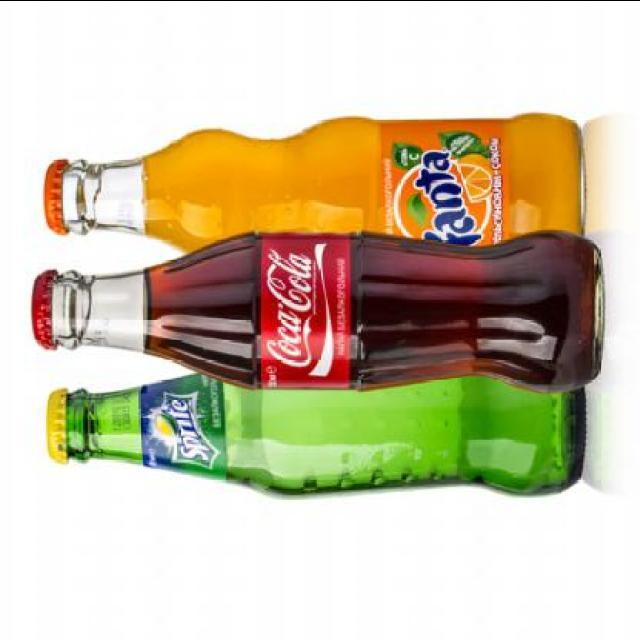Coke: (24, 222, 604, 396)
Fanta: (41, 109, 594, 258)
